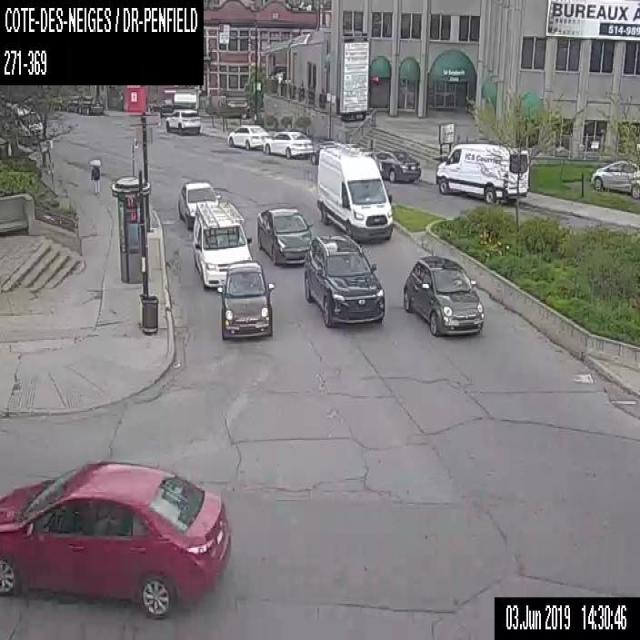pedestrian: (87, 156, 101, 192)
vehicle: (0, 457, 232, 619), (302, 231, 385, 328), (315, 139, 392, 240), (402, 252, 484, 336), (435, 140, 529, 204), (192, 200, 252, 288), (218, 260, 274, 338), (257, 204, 313, 265), (590, 158, 639, 200), (178, 179, 217, 230), (374, 148, 420, 182), (264, 130, 314, 158), (226, 123, 268, 150), (165, 107, 201, 132), (311, 139, 341, 163), (220, 98, 248, 117), (78, 94, 103, 113), (66, 94, 82, 111)
